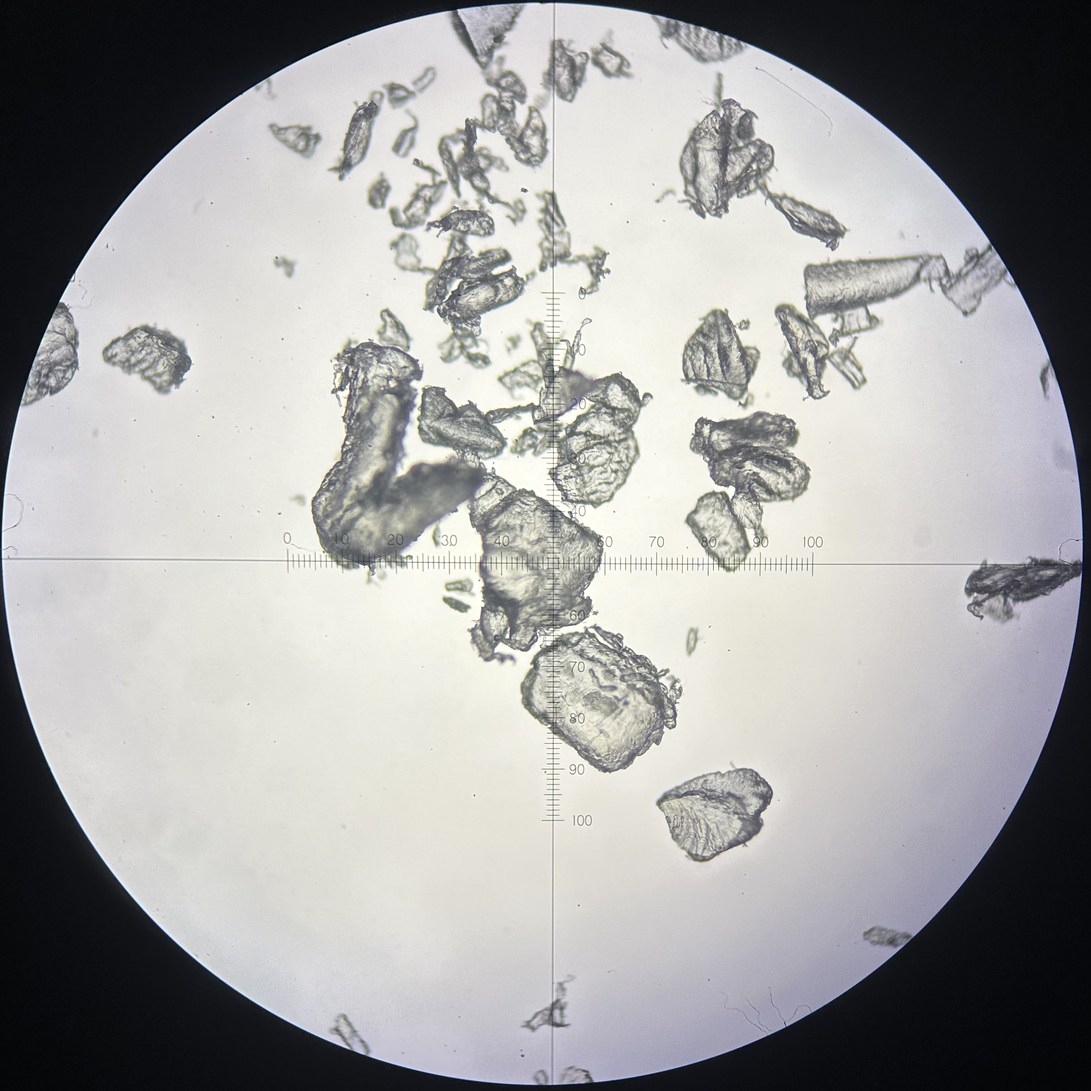microplastic: (310, 339, 488, 575), (452, 441, 605, 653), (517, 625, 678, 775), (547, 370, 655, 510), (654, 759, 775, 865), (676, 98, 776, 220), (709, 442, 814, 547), (804, 253, 947, 323), (964, 555, 1084, 621), (681, 307, 762, 402), (417, 382, 510, 461), (101, 320, 194, 396), (17, 301, 80, 408), (420, 245, 513, 315), (689, 409, 803, 462), (683, 489, 753, 574), (940, 241, 1017, 317), (773, 303, 831, 400), (326, 89, 385, 183), (649, 13, 753, 66), (763, 191, 853, 252), (451, 2, 529, 70), (530, 366, 596, 425), (519, 972, 577, 1035), (533, 187, 575, 274), (385, 177, 449, 233), (540, 39, 591, 104), (503, 104, 552, 170), (558, 244, 614, 297), (266, 120, 325, 161), (461, 116, 491, 195), (387, 231, 437, 277), (437, 124, 465, 201), (328, 1012, 372, 1057), (828, 345, 869, 393), (423, 208, 498, 234), (376, 305, 414, 355), (559, 317, 594, 371), (589, 41, 636, 80), (484, 69, 529, 106), (833, 305, 882, 338), (483, 193, 529, 228), (390, 108, 421, 159), (860, 923, 915, 951), (497, 359, 543, 391), (438, 230, 475, 267), (482, 401, 538, 425), (527, 319, 555, 365), (780, 341, 808, 387), (379, 81, 420, 111), (465, 622, 493, 663), (476, 144, 511, 175), (367, 170, 392, 212), (533, 423, 563, 458), (588, 623, 624, 652), (478, 91, 501, 135), (509, 426, 540, 456), (556, 1065, 595, 1087), (410, 65, 437, 94), (440, 592, 472, 616), (410, 157, 444, 179), (443, 576, 477, 597), (497, 90, 519, 121), (497, 119, 526, 142), (272, 254, 299, 278), (666, 673, 685, 706), (1038, 360, 1053, 399), (490, 649, 518, 666), (391, 552, 415, 570), (686, 626, 699, 659), (715, 72, 724, 117), (531, 1069, 551, 1089), (654, 188, 677, 204), (737, 392, 756, 410), (843, 338, 856, 362), (827, 326, 841, 348), (735, 317, 752, 331), (366, 569, 379, 587), (432, 524, 441, 547), (385, 557, 393, 571)
